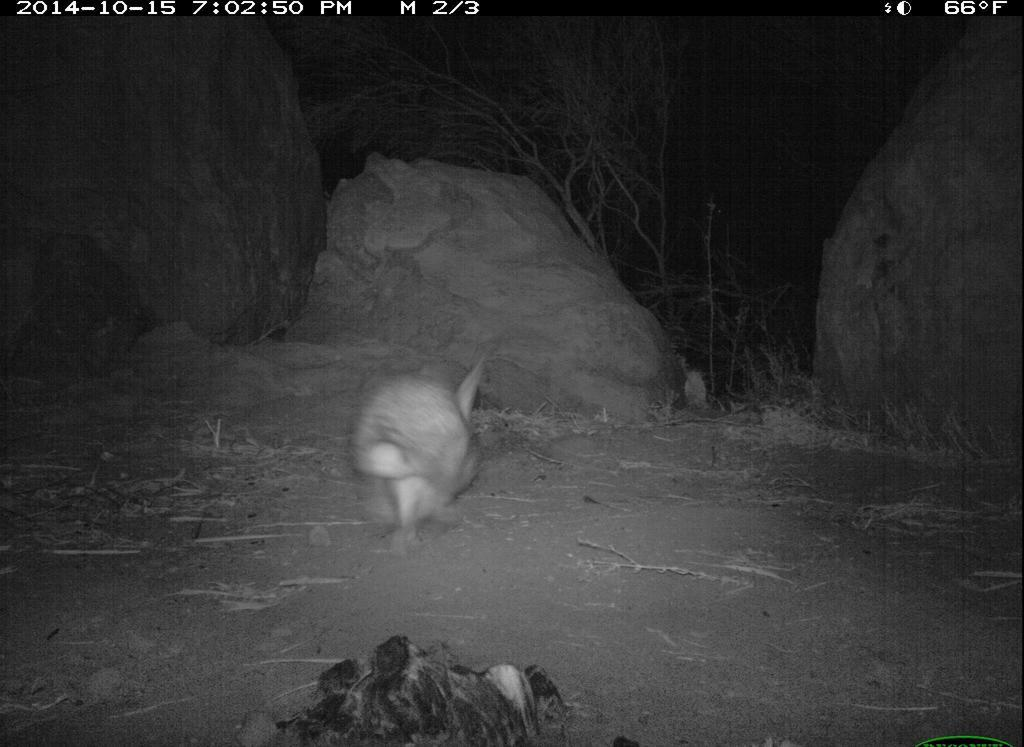rabbit: (350, 354, 519, 573)
